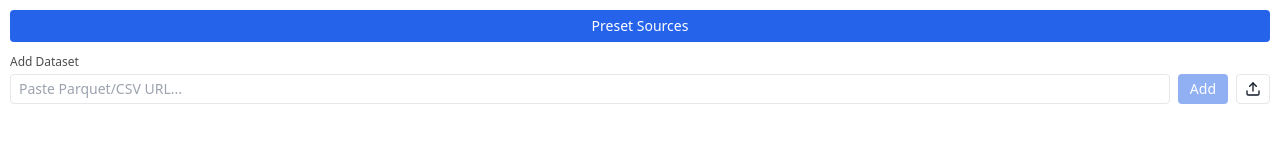
it: DI-VALID-1: Invalid URL shows error › shows error for invalid URL format after debounce
The width and height of the screenshot is (1280, 160).
Type "not-a-url" into the field with placeholder "Paste Parquet/CSV URL...".
click(590, 89); type("not-a-url")  # box [10,74,1170,104]
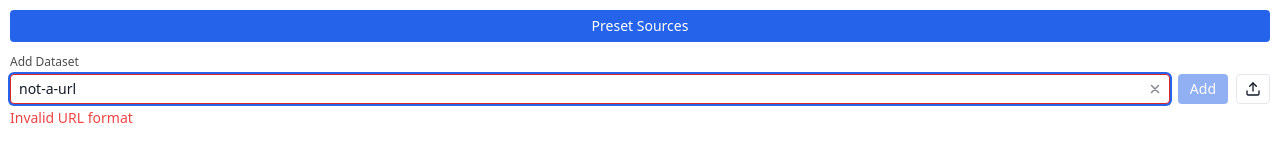
Expected: the text "Invalid URL format" is shown, [10,108,133,127]
